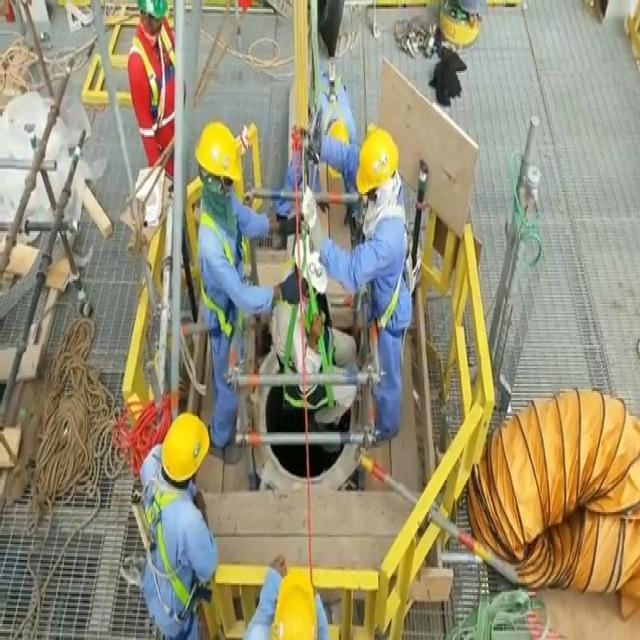Person: (352, 127, 417, 447)
